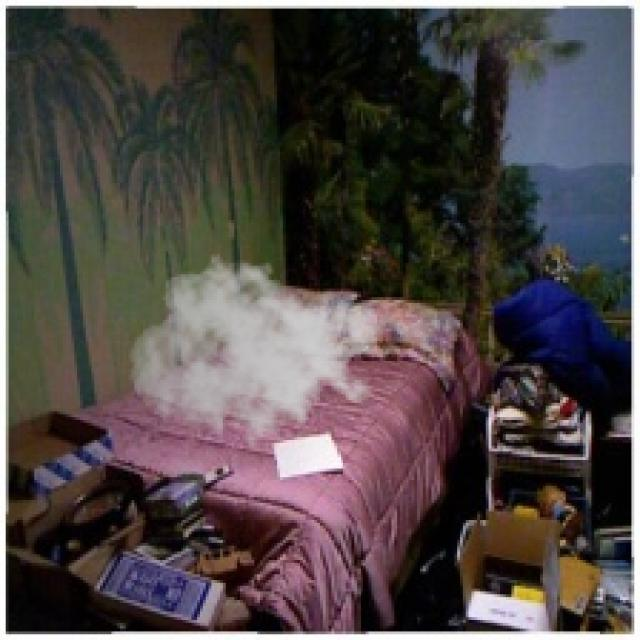smoke: (128, 249, 383, 460)
